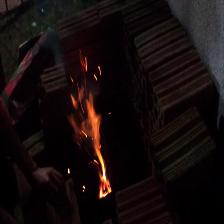fire: (73, 48, 112, 196)
